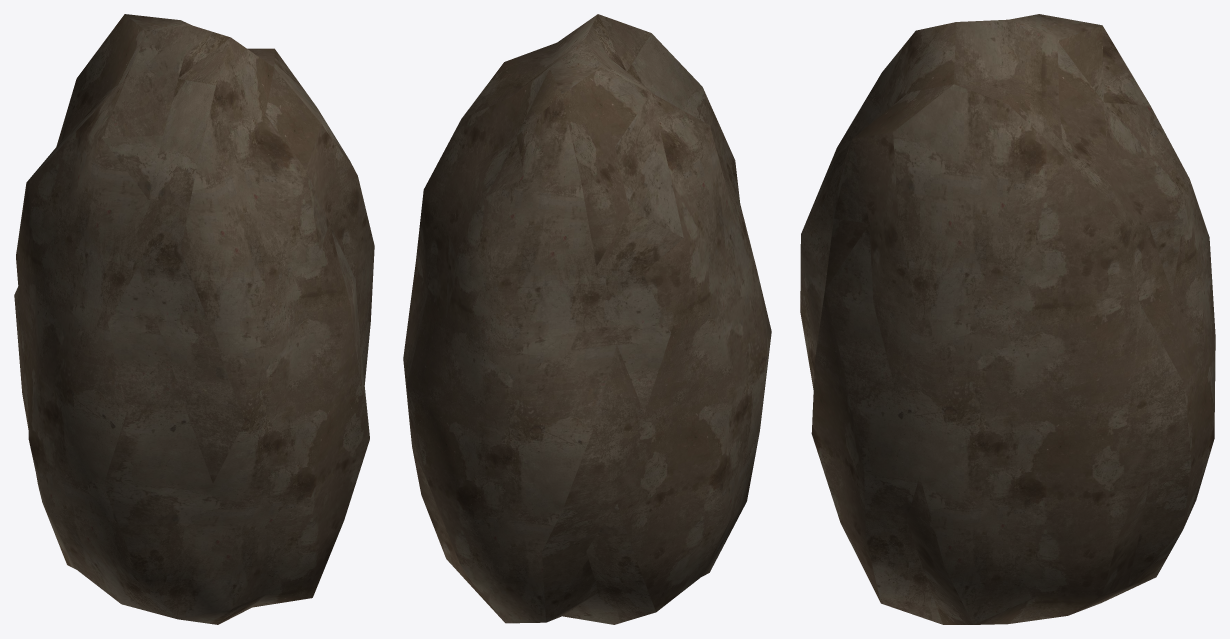
File: industrial-boulder-tall.glb
3 views of the same model, side by side, from view 1: azimuth 30°, elevation 25°; view 2: azimuth 150°, elevation 25°; view 3: azimuth 270°, elevation 25° (orthographic). The views are drawn at different scales.
Visible parts, largest first — view 1: industrial-boulder-tall; view 2: industrial-boulder-tall; view 3: industrial-boulder-tall.
Part boxes in pixels (x1=…): industrial-boulder-tall: x1=14, y1=14, x2=374, y2=624; industrial-boulder-tall: x1=403, y1=14, x2=771, y2=624; industrial-boulder-tall: x1=800, y1=14, x2=1215, y2=624.
Size of the model in its own units: 2 by 3.6 by 2.35.
Materials: 1 (1 with a texture image).
